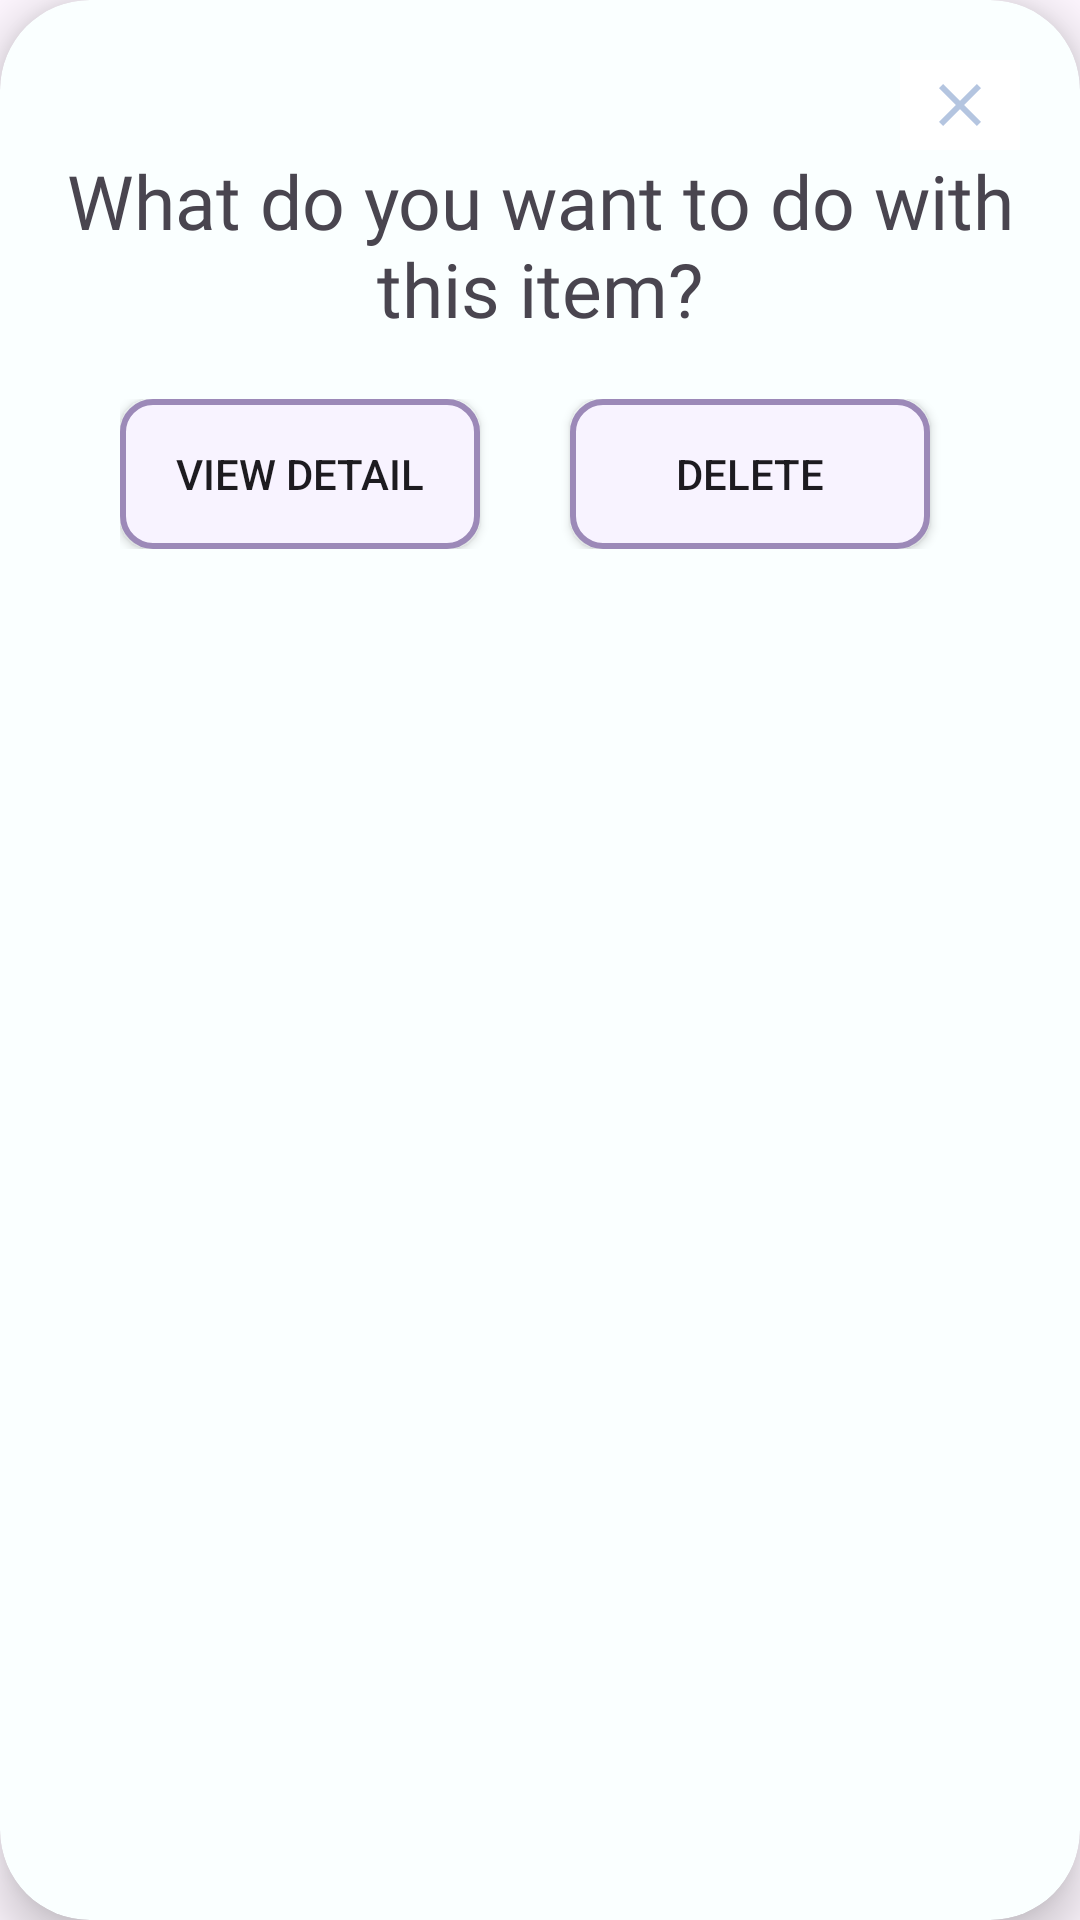

Named icons in this screenshot (1080px x 1920px) and their centers, (x,y):
close: (960,105)
